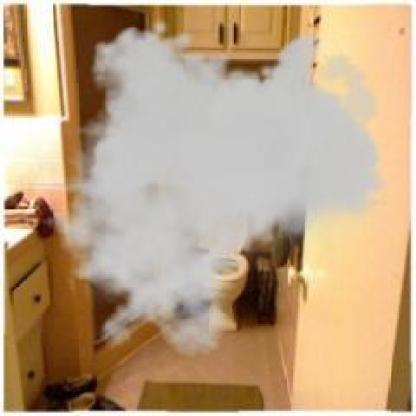Smoke: (29, 16, 388, 358)
